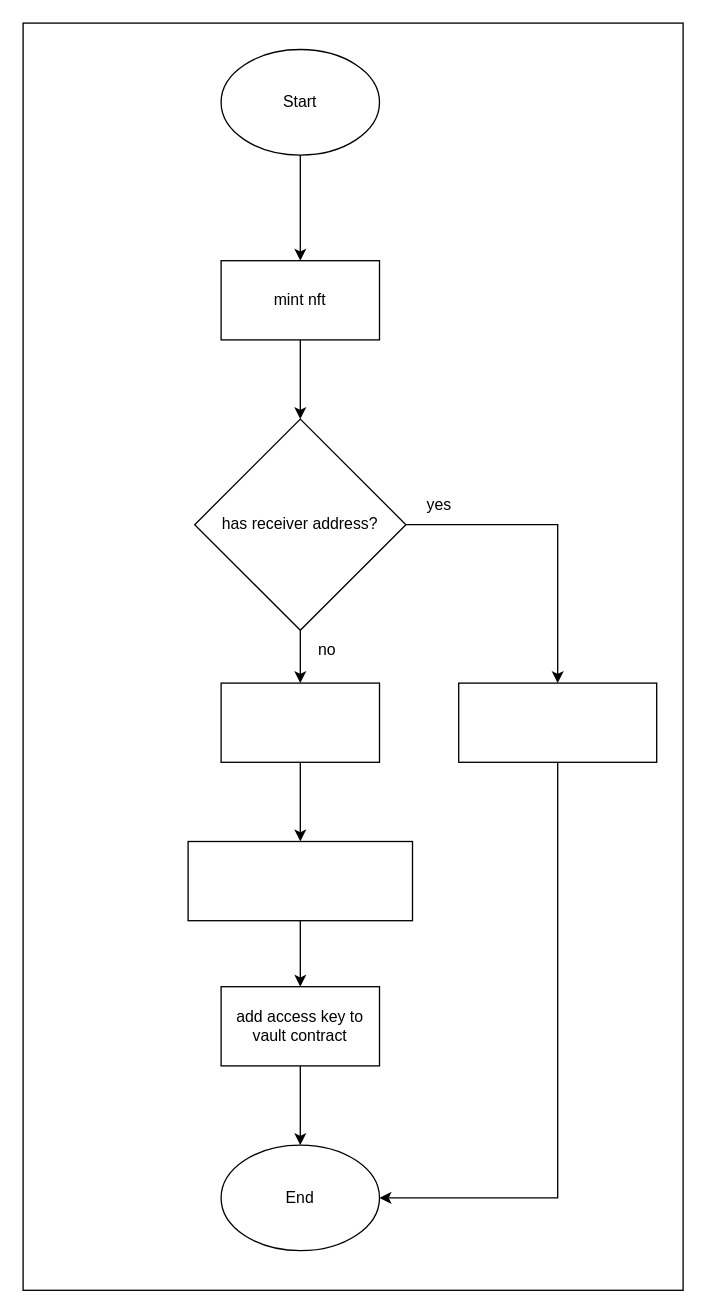
This 706x1313 diagram has some shape labels left out. Each missing label, with the box of its shape:
generate key pair: (220, 682, 380, 762)
transfer nft to receiver address: (457, 682, 657, 762)
transfer nft to vault contract with public key for claim verification: (187, 840, 412, 921)
